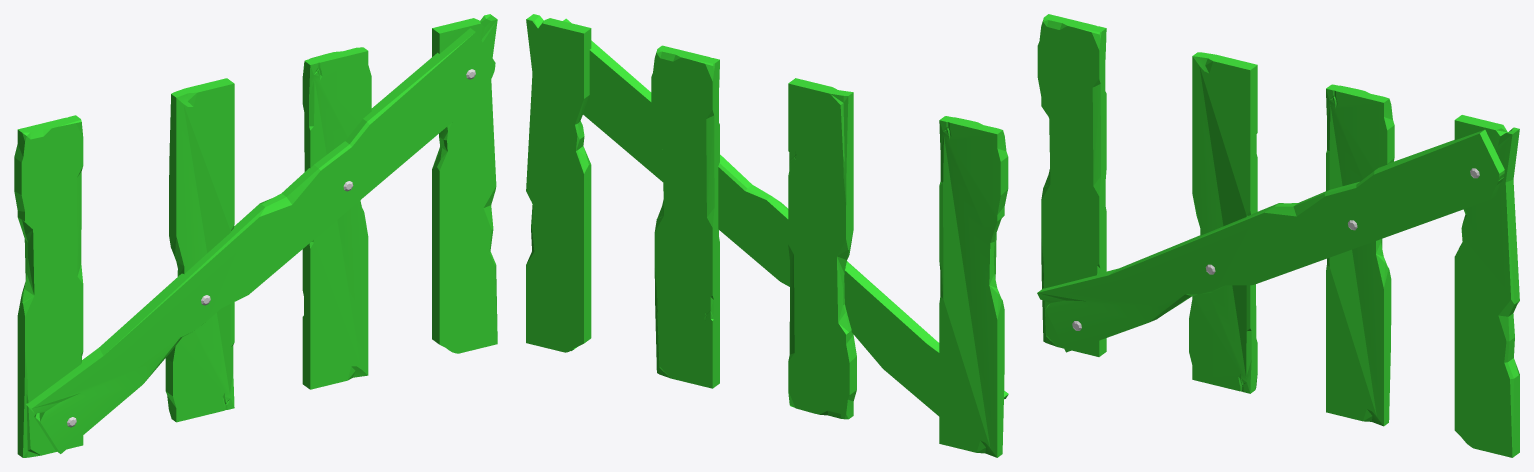
File: Płotek2.fbx
The picture shows the model from 3 angles, left to right: view 1: azimuth 30°, elevation 25°; view 2: azimuth 150°, elevation 25°; view 3: azimuth 330°, elevation 25°; orthographic projection.
Visible parts, largest first — view 1: Plotek3; view 2: Plotek3; view 3: Plotek3.
Boxes of the visible parts, x1=… form: Plotek3: x1=14, y1=14, x2=497, y2=457; Plotek3: x1=526, y1=14, x2=1008, y2=457; Plotek3: x1=1037, y1=14, x2=1519, y2=457.
Bounding box in the file's own units: 368 × 240 × 18.6.
